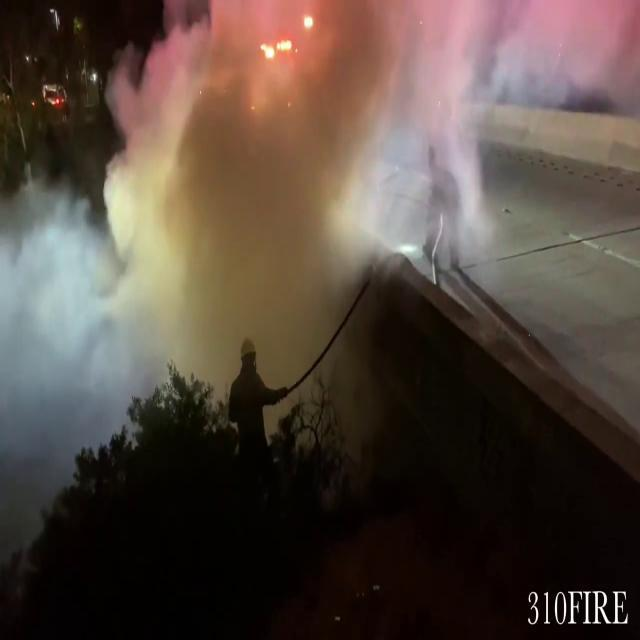Smoke: (39, 0, 518, 402)
